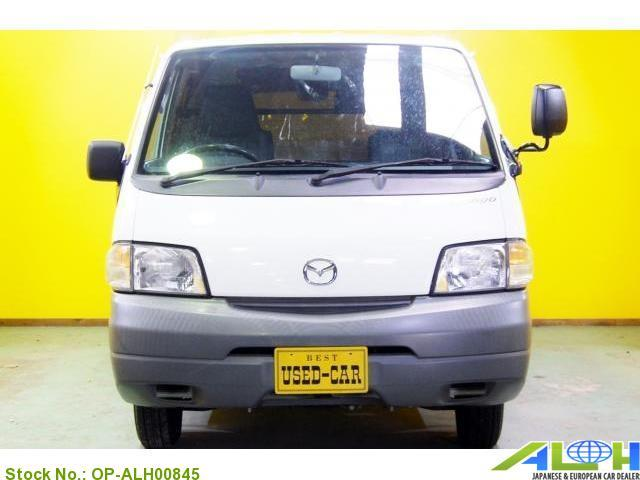Van: (88, 29, 566, 440)
